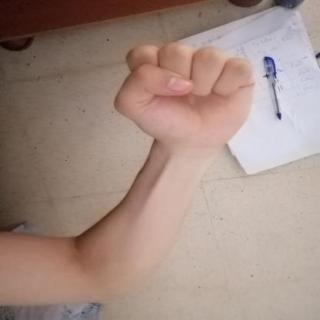SAD: (96, 32, 277, 160)
